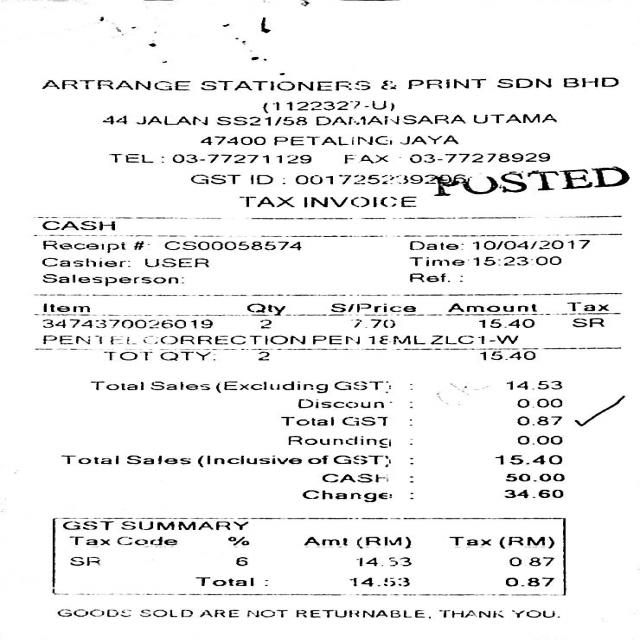text: (528, 166, 627, 190), (215, 380, 389, 393), (436, 172, 525, 196), (294, 173, 465, 183), (40, 273, 182, 285), (260, 99, 391, 112), (142, 334, 303, 344), (200, 80, 370, 89), (314, 114, 464, 124), (408, 152, 548, 162), (196, 454, 302, 467), (164, 240, 300, 250), (41, 319, 210, 327), (39, 80, 187, 89), (120, 520, 248, 530), (301, 195, 414, 206), (170, 153, 308, 162), (368, 335, 517, 343), (471, 239, 589, 249), (273, 134, 390, 144), (40, 239, 124, 252), (294, 609, 427, 617), (287, 436, 388, 446), (300, 490, 389, 501), (40, 334, 136, 344), (447, 302, 536, 312), (298, 398, 384, 408), (278, 416, 384, 424), (470, 113, 554, 123), (213, 115, 304, 124), (472, 256, 562, 265), (40, 220, 113, 231), (405, 78, 483, 88), (41, 257, 127, 266), (355, 535, 408, 548), (329, 303, 414, 311), (124, 454, 188, 464), (135, 115, 206, 124), (332, 455, 390, 466), (497, 536, 552, 547), (319, 473, 386, 482), (56, 608, 130, 616), (59, 454, 118, 464), (561, 77, 616, 87), (407, 240, 462, 250), (495, 77, 549, 87), (238, 196, 292, 206), (90, 380, 144, 390), (493, 455, 559, 463), (198, 135, 262, 143), (142, 258, 206, 266), (479, 351, 535, 360), (159, 351, 215, 360), (189, 173, 239, 183), (114, 536, 176, 544), (407, 256, 462, 265), (477, 318, 532, 327), (504, 379, 559, 388), (502, 488, 562, 496), (503, 472, 562, 480), (349, 576, 408, 584), (398, 135, 456, 143), (515, 398, 561, 408), (508, 556, 554, 566), (246, 302, 284, 314), (101, 351, 151, 360), (356, 557, 412, 565), (194, 576, 250, 584), (447, 535, 489, 545), (155, 381, 207, 389), (62, 521, 114, 529), (349, 318, 394, 327), (69, 535, 109, 545), (502, 576, 552, 584), (311, 335, 360, 343), (566, 301, 609, 310), (42, 303, 90, 311), (437, 610, 501, 616), (344, 154, 386, 163), (301, 536, 348, 544), (510, 609, 556, 617), (407, 273, 447, 282), (106, 154, 150, 162), (514, 416, 558, 424), (516, 436, 560, 444), (570, 317, 602, 327), (138, 610, 190, 616), (67, 555, 97, 564), (248, 174, 272, 184), (246, 610, 286, 616), (197, 610, 236, 616), (306, 454, 326, 464), (100, 115, 124, 123), (226, 536, 248, 544), (232, 556, 245, 566), (380, 80, 394, 89), (258, 318, 270, 328), (257, 351, 270, 360), (130, 240, 142, 248)
